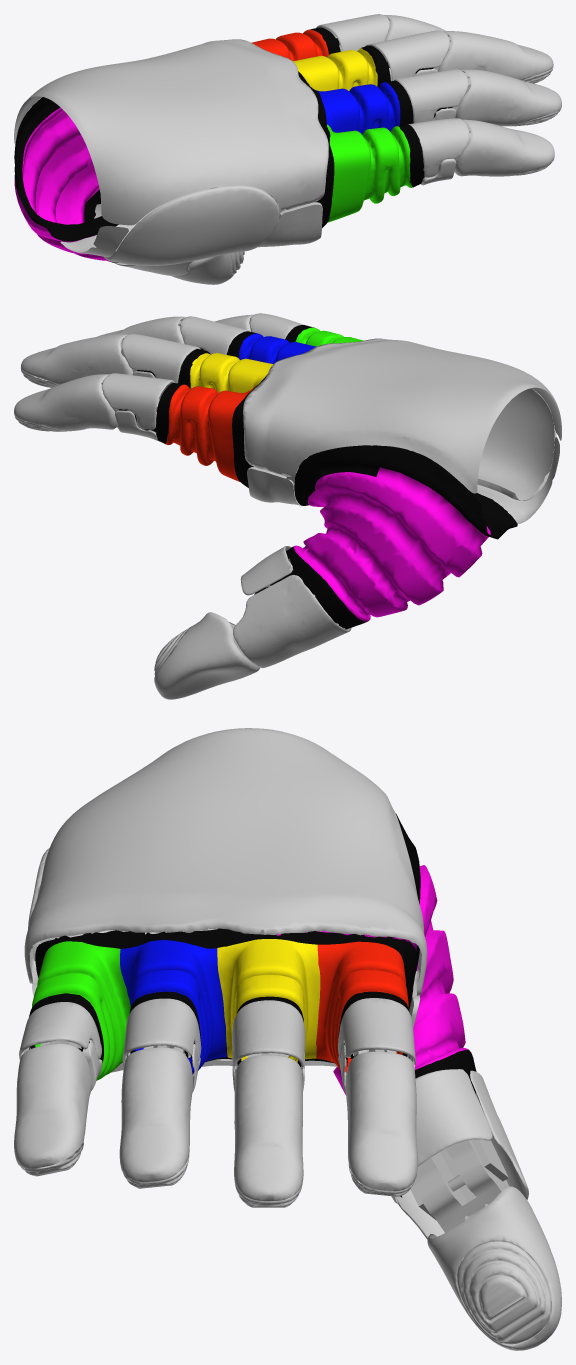
Rendered from festh3_test11.obj.
3 views of the same model, one above another, from view 1: azimuth 30°, elevation 25°; view 2: azimuth 150°, elevation 25°; view 3: azimuth 270°, elevation 25° (orthographic). The views are drawn at different scales.
Parts seen in each view (by area): view 1: palm_1_part_25, gofra_1_part_12, gofra_2_patr_6, rubber_1_part_23, part_8, part_7, part_9, palm_1_part_24, falangi_2_part_15, falangi_2_part_17, falangi_2_part_13, falangi_2_part_19 (+4 smaller); view 2: palm_1_part_25, gofra_2_patr_6, gofra_1_part_12, rubber_1_part_23, falangi_2_part_21, part_11, part_10, part_9, palm_1_part_24, falangi_2_part_19, falangi_2_part_17, falangi_2_part_15 (+4 smaller); view 3: palm_1_part_25, gofra_1_part_12, part_9, part_10, part_8, part_7, part_5, gofra_2_patr_6, part_11, part_35, falangi_2_part_22, falangi_2_part_17 (+5 smaller).
Part boxes in pixels (x1,y1,x2,y2): palm_1_part_25: (14,39,328,225); gofra_1_part_12: (251,27,452,227); gofra_2_patr_6: (14,97,118,262); rubber_1_part_23: (104,185,284,265); part_8: (455,69,561,126); part_7: (454,119,554,176); part_9: (437,31,553,80); palm_1_part_24: (60,188,322,257); falangi_2_part_15: (394,69,468,122); falangi_2_part_17: (369,30,449,80); falangi_2_part_13: (408,118,469,177); falangi_2_part_19: (316,14,389,51); palm_1_part_25: (243,338,561,493); gofra_2_patr_6: (254,445,517,629); gofra_1_part_12: (118,325,363,487); rubber_1_part_23: (257,388,556,500); falangi_2_part_21: (233,575,351,668); part_11: (154,612,259,699); part_10: (14,374,117,431); part_9: (20,334,133,384); palm_1_part_24: (247,437,559,523); falangi_2_part_19: (102,373,174,429); falangi_2_part_17: (121,334,200,383); falangi_2_part_15: (180,316,249,354); palm_1_part_25: (24,728,427,995); gofra_1_part_12: (29,928,416,1080); part_9: (234,1055,303,1201); part_10: (345,1051,417,1191); part_8: (119,1047,192,1182); part_7: (14,1043,91,1168); part_5: (457,1241,550,1344); gofra_2_patr_6: (233,814,476,1197); part_11: (427,1186,561,1350); part_35: (410,1139,508,1232); falangi_2_part_22: (391,1069,492,1203); falangi_2_part_17: (232,1000,305,1069).
Bounding box in the file's own units: 155 × 90.79 × 102.
